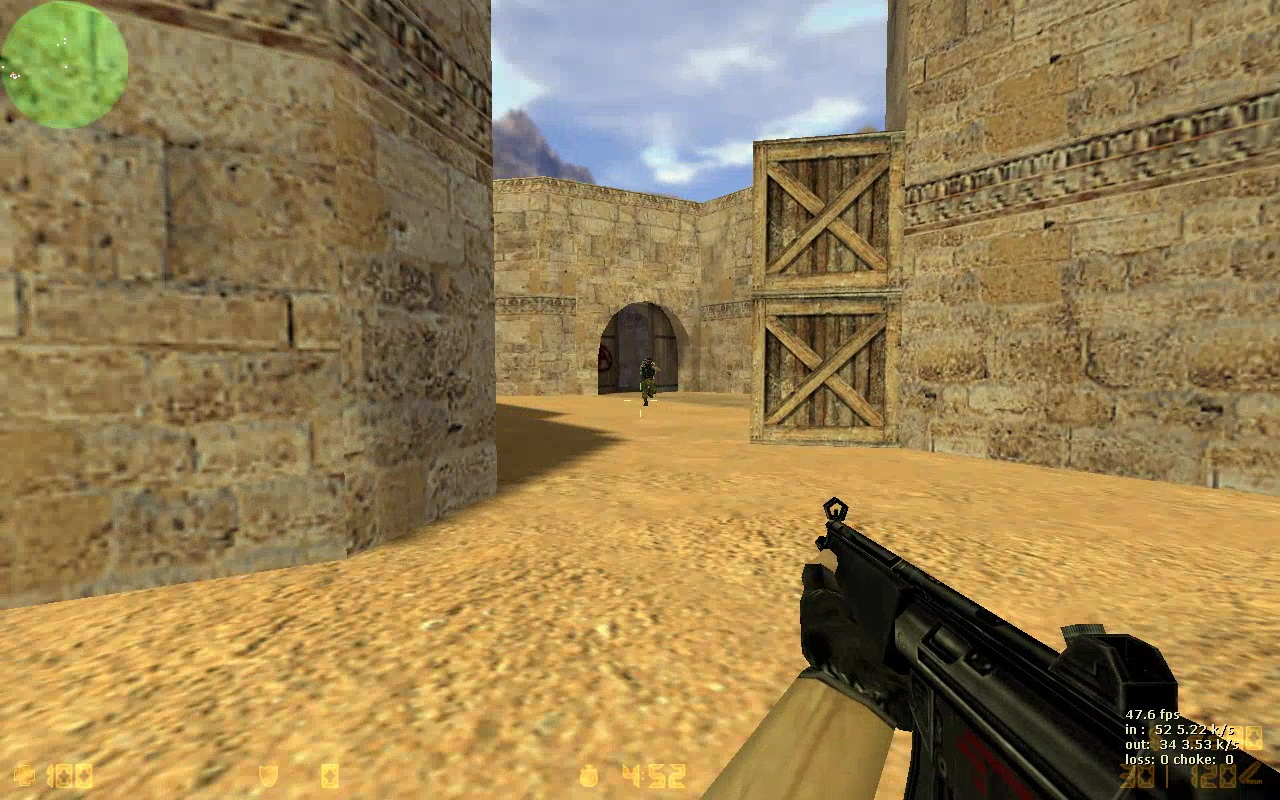terr1: (640, 358, 659, 406)
